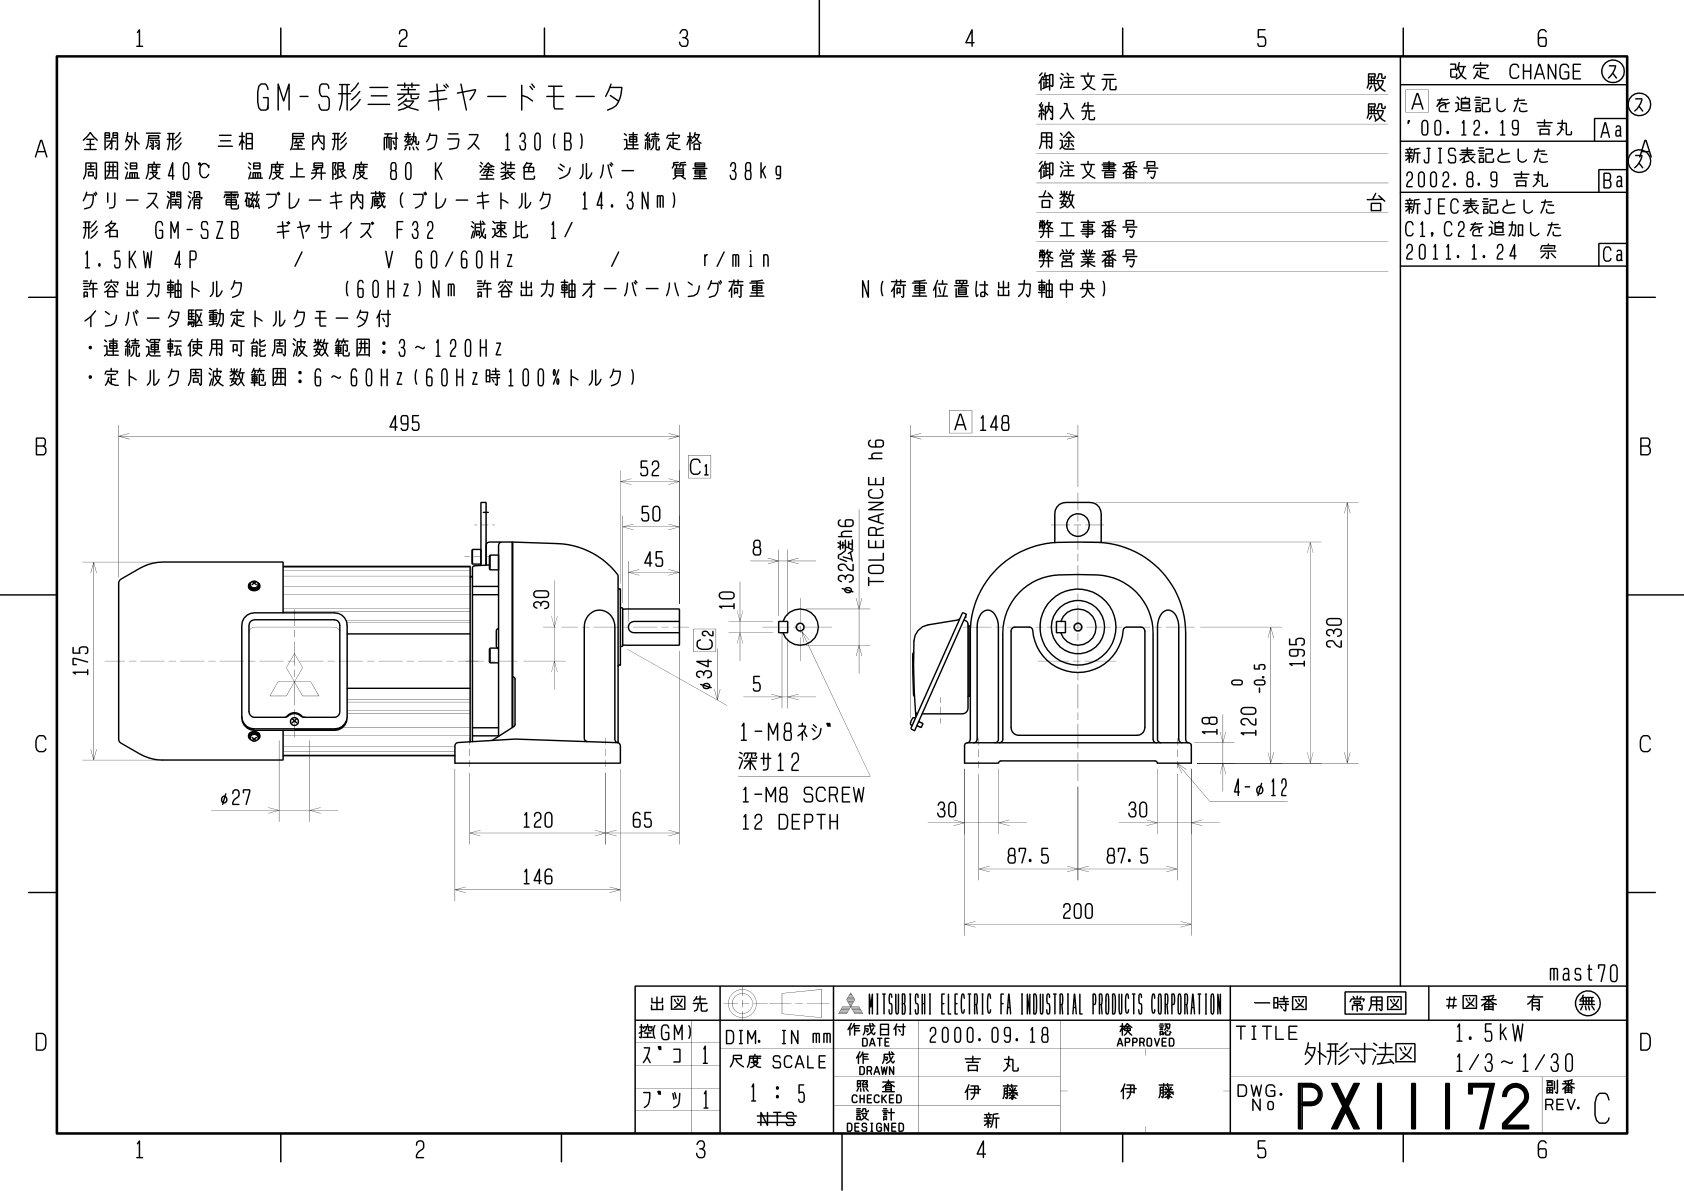GM_S_インバタ屋内＿三相_脚: (9, 3, 1684, 1191)
